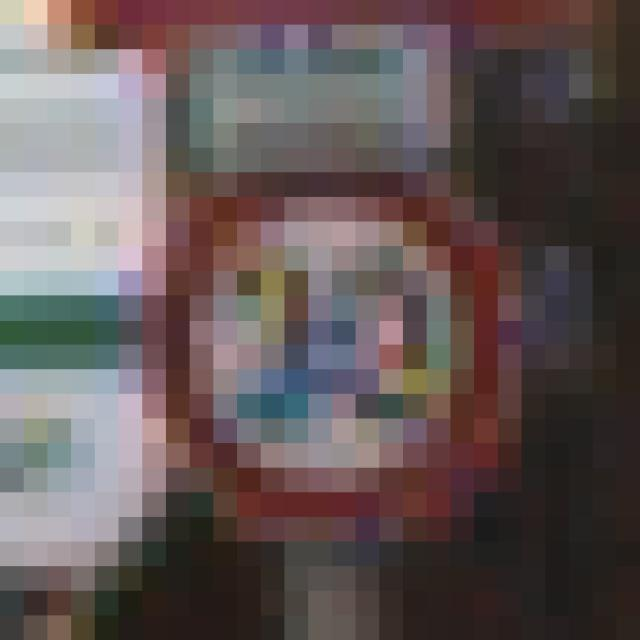Speed Limit -30-: (130, 110, 510, 504)
